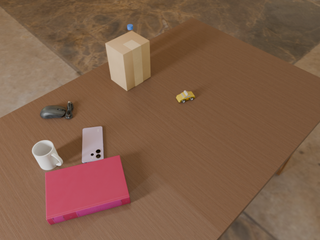book: (45, 155, 130, 225)
box: (106, 31, 150, 91)
cup: (32, 140, 63, 170)
mouse: (40, 102, 73, 119)
phone: (82, 127, 104, 163)
toy_car: (176, 91, 195, 103)
